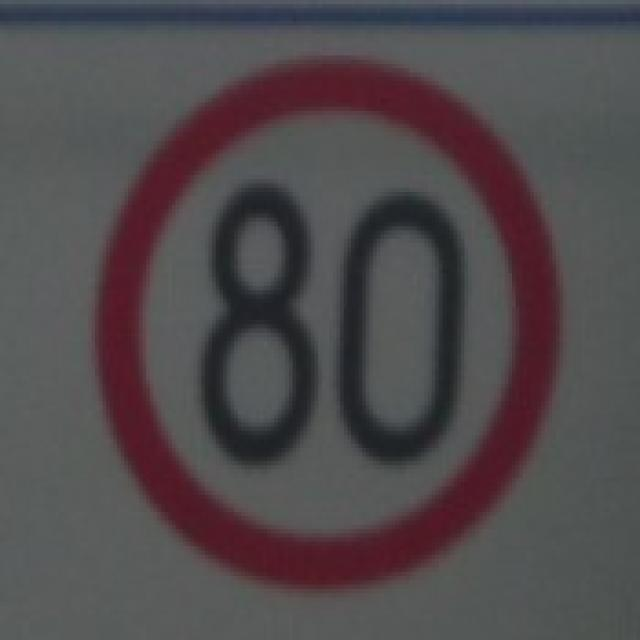Speed Limit -80-: (196, 180, 466, 469)
